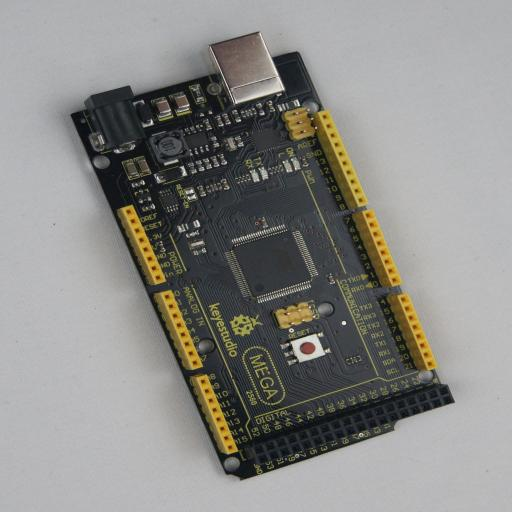Arduino Mega 2560 -Black and Yellow-: (70, 32, 455, 480)
